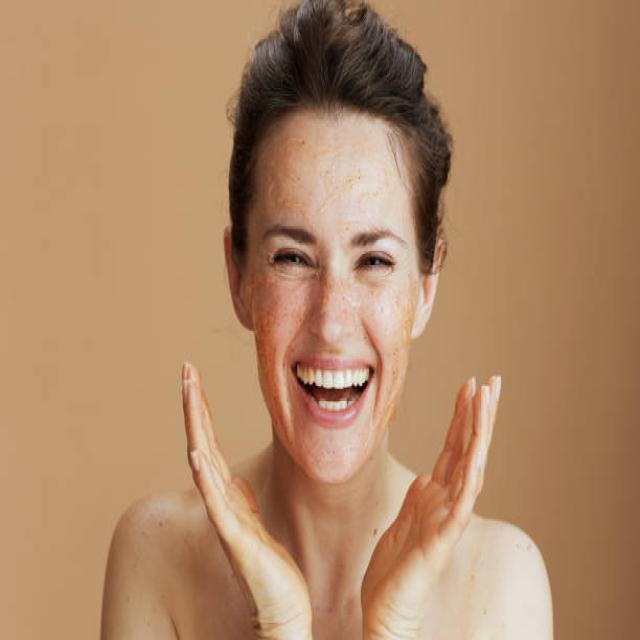Dry-Skin: (272, 140, 413, 222), (364, 285, 415, 455), (244, 266, 296, 426)
